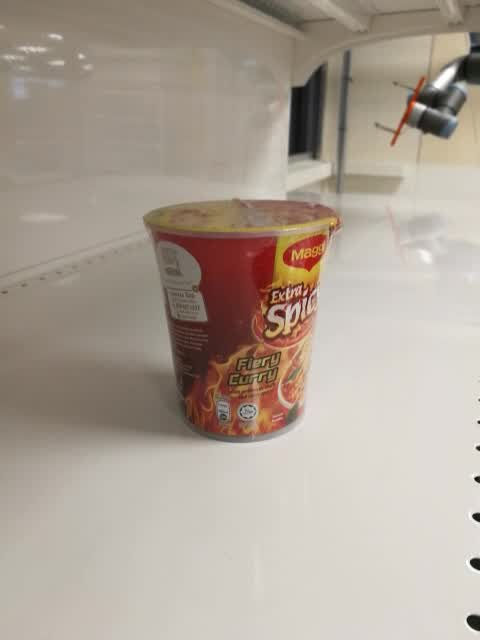maggi: (142, 199, 342, 446)
